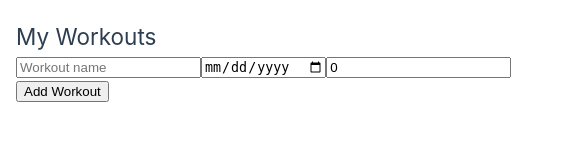
Test: WorkoutList › submits the form and adds the new workout to the list
Type "Cycling" into the field with placeholder "Workout name". click: (108, 68)
box: [16,57,201,78]
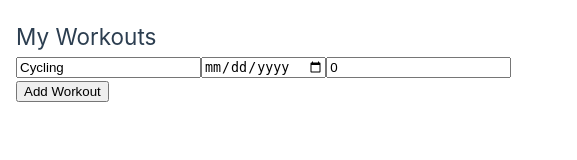
Type "2026-06-30" into the date field. click: (264, 67)
box: [201,57,326,78]
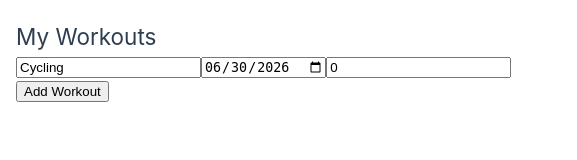
Replace the text in the number field with "45". click: (419, 68)
box: [326,57,511,78]
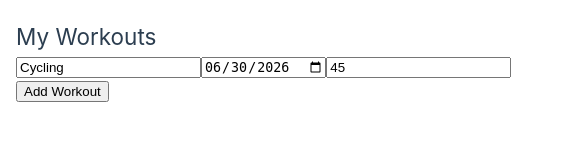
Submit the form, box [16,55,560,103]
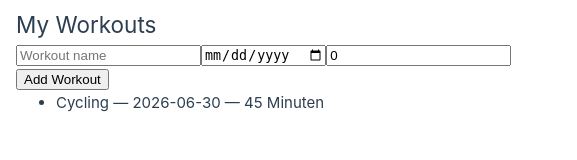
Now the text "Cycling" is shown, box [56,93,109,112]
